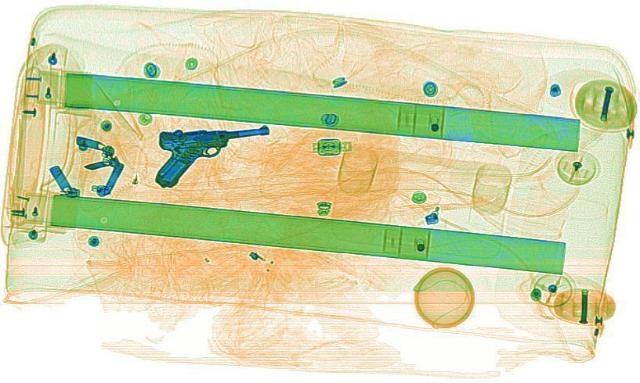Gun: (129, 112, 289, 188)
